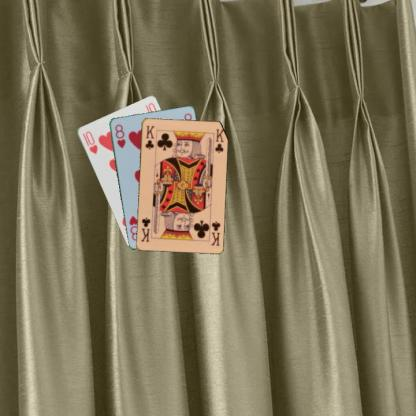10h: (80, 128, 99, 156)
8h: (112, 121, 127, 149)
Kc: (208, 218, 221, 247), (143, 123, 155, 151)
